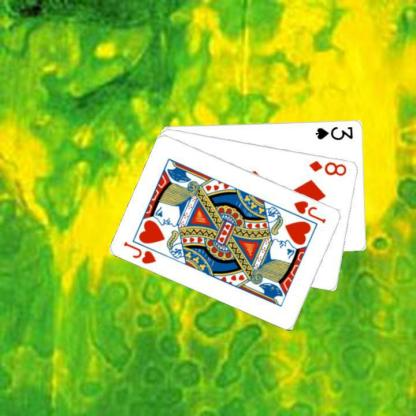3S: (313, 124, 354, 141)
8D: (306, 158, 349, 177)
JH: (291, 198, 328, 224), (121, 239, 158, 265)
